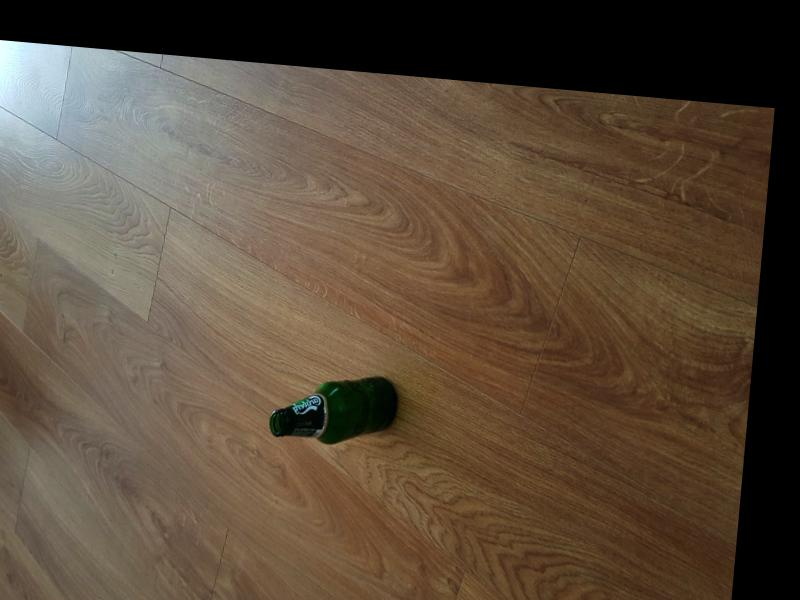Beer: (266, 366, 400, 450)
